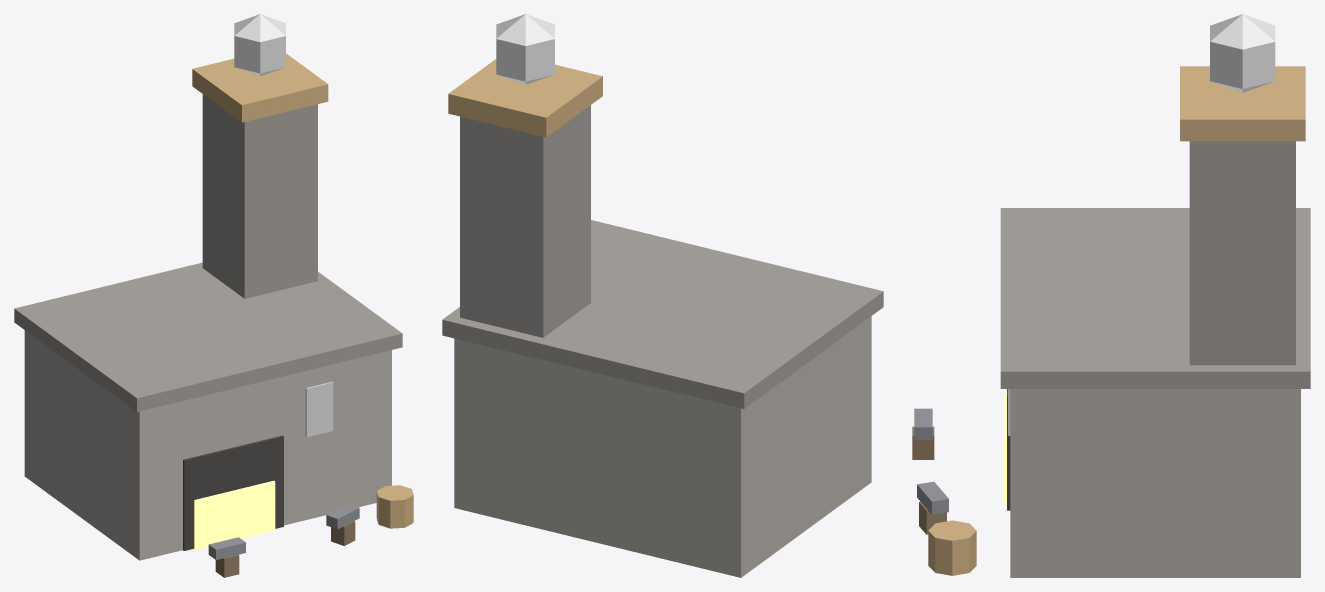
3 views of the same model, side by side, from view 1: azimuth 30°, elevation 25°; view 2: azimuth 150°, elevation 25°; view 3: azimuth 270°, elevation 25° (orthographic). The views are drawn at different scales.
Parts seen in each view (by area): view 1: body; view 2: body; view 3: body.
Part boxes in pixels (bbox=[...]): body: bbox=[14, 14, 413, 577]; body: bbox=[442, 14, 883, 577]; body: bbox=[912, 14, 1310, 577].
Size of the model in its own units: 8 by 12.3 by 8.23.
